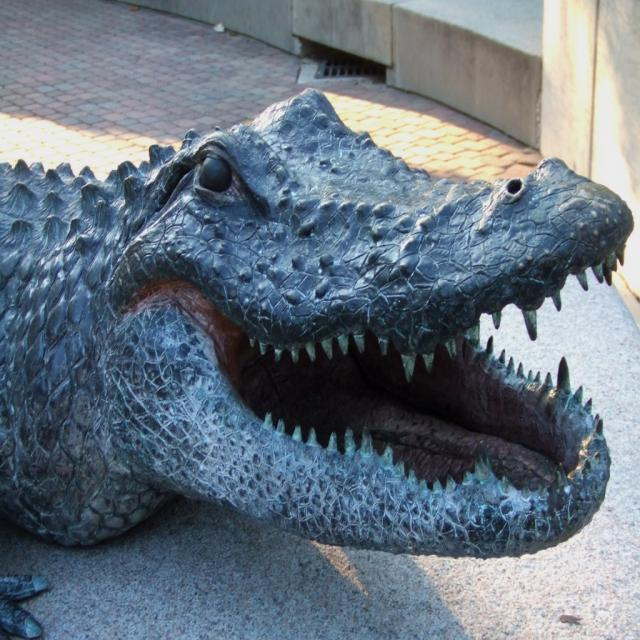crocodile: (0, 89, 637, 573)
